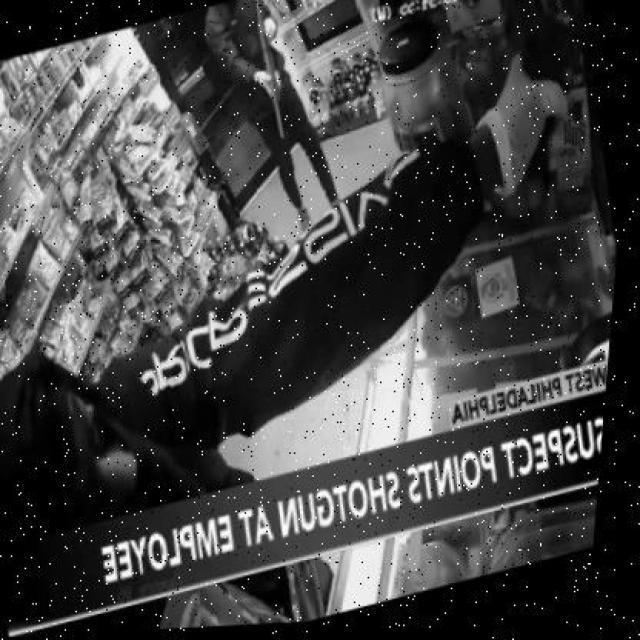weapon: (517, 12, 620, 182), (252, 2, 288, 146)
